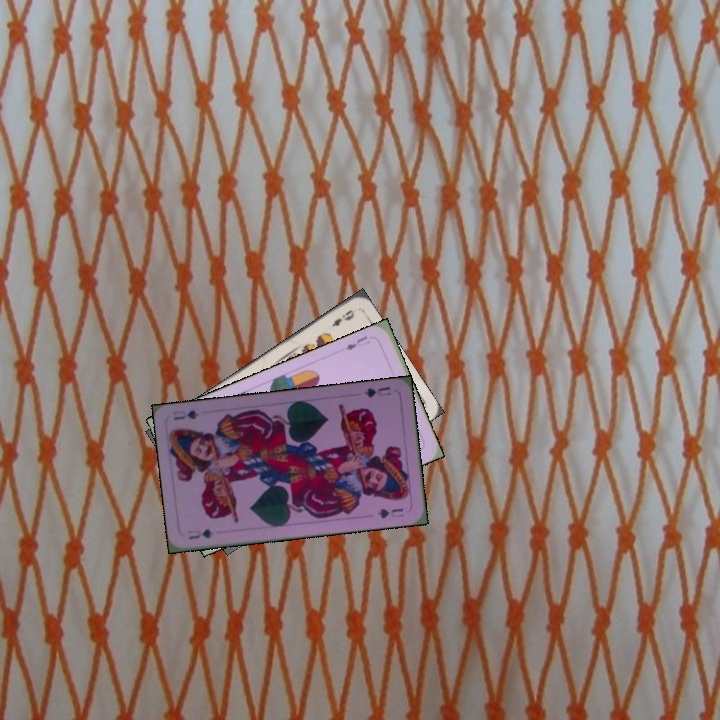E9: (327, 305, 357, 329)
EU: (341, 332, 372, 353)
GU: (360, 382, 393, 400), (183, 525, 216, 542)
